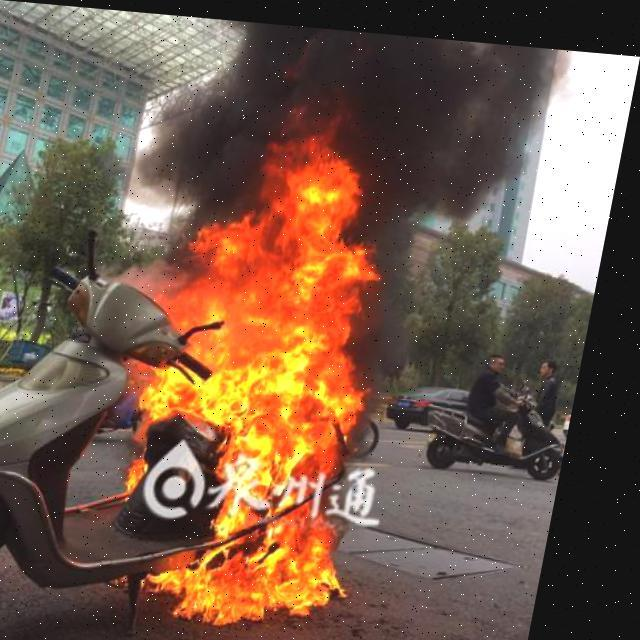Fire: (94, 108, 438, 628)
